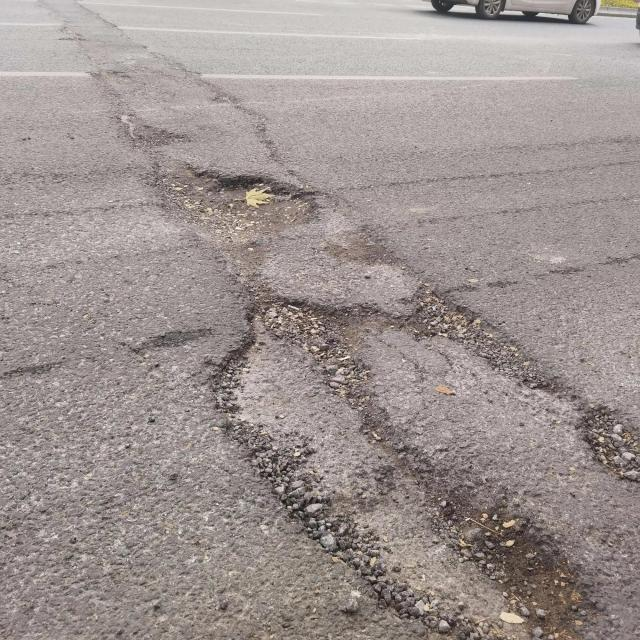Pothole: (216, 290, 636, 640), (148, 161, 330, 241)
